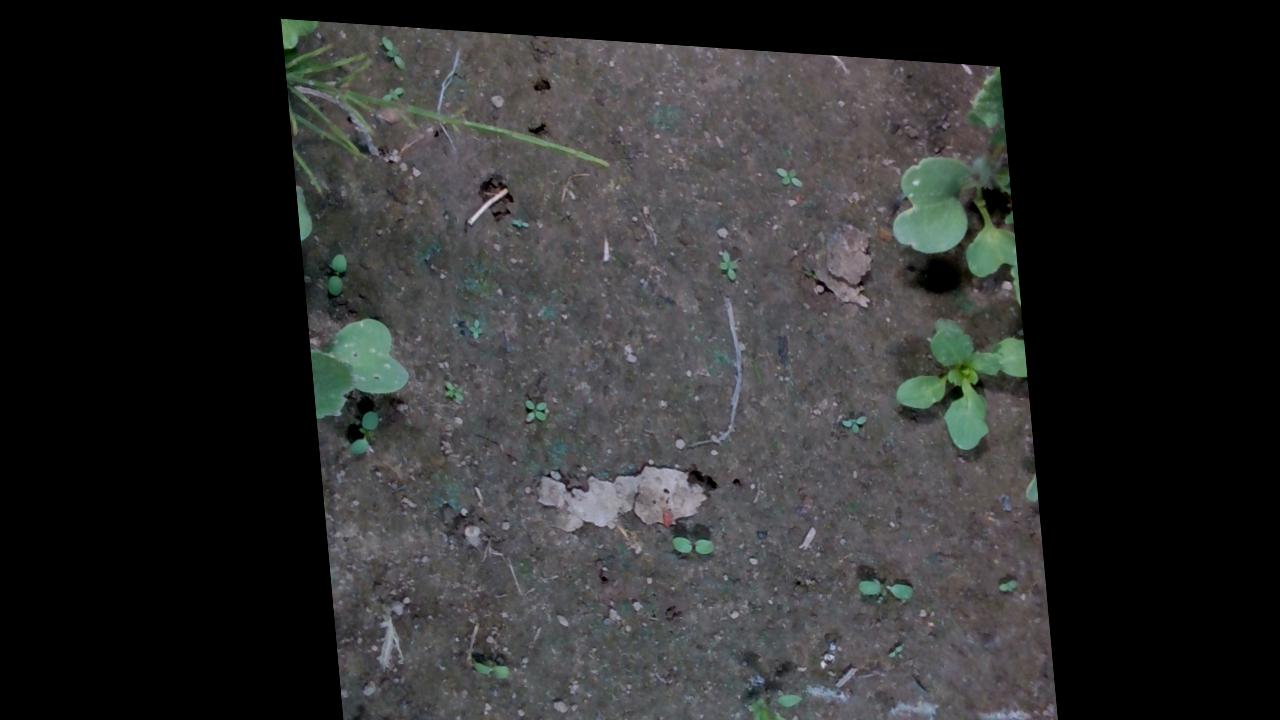weed: (340, 402, 375, 450), (319, 245, 346, 292), (847, 565, 906, 586), (661, 525, 708, 545), (380, 29, 406, 64), (713, 238, 737, 270), (515, 391, 543, 417), (830, 401, 863, 422), (459, 655, 499, 672), (773, 153, 801, 177), (463, 310, 479, 333), (987, 564, 1012, 578), (876, 630, 895, 646), (339, 715, 363, 719)
